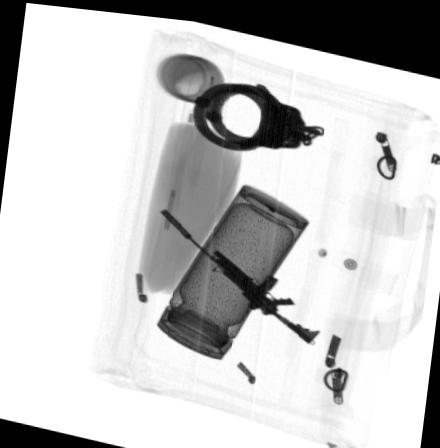Gun: (158, 201, 322, 339)
HandCuffs: (191, 75, 325, 148)
